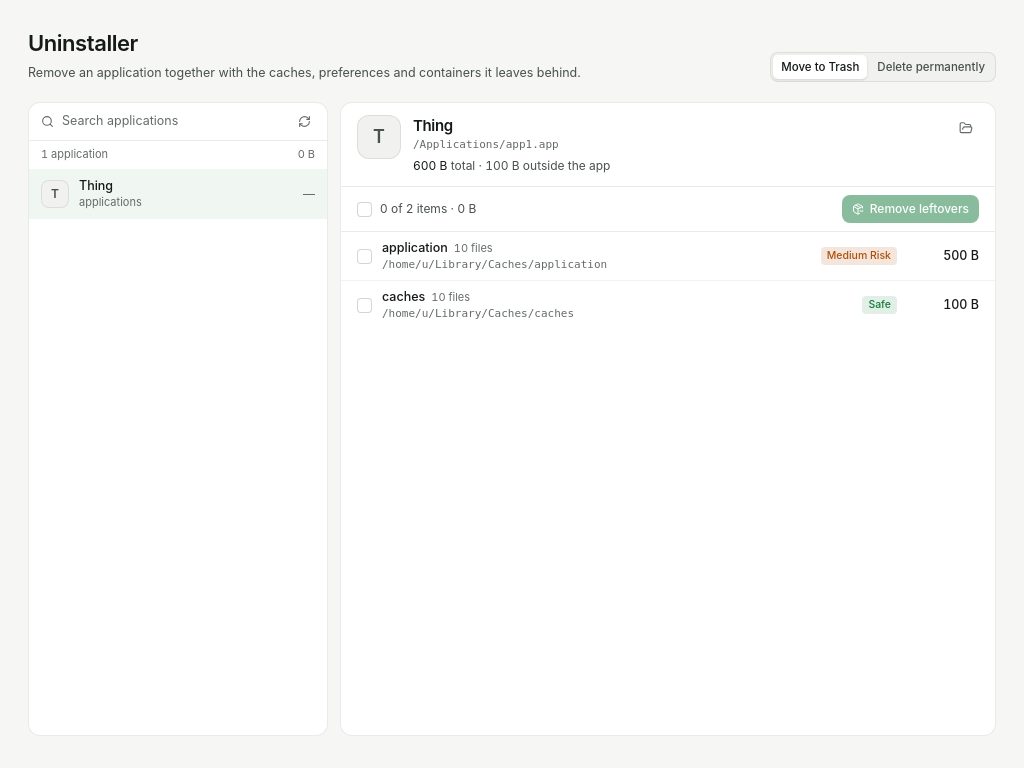
Test: UninstallerView › says whether it is uninstalling or only clearing up after
This screenshot has width=1024, height=768.
Click the checkbox named "caches": (364, 305) [357,298,372,313]
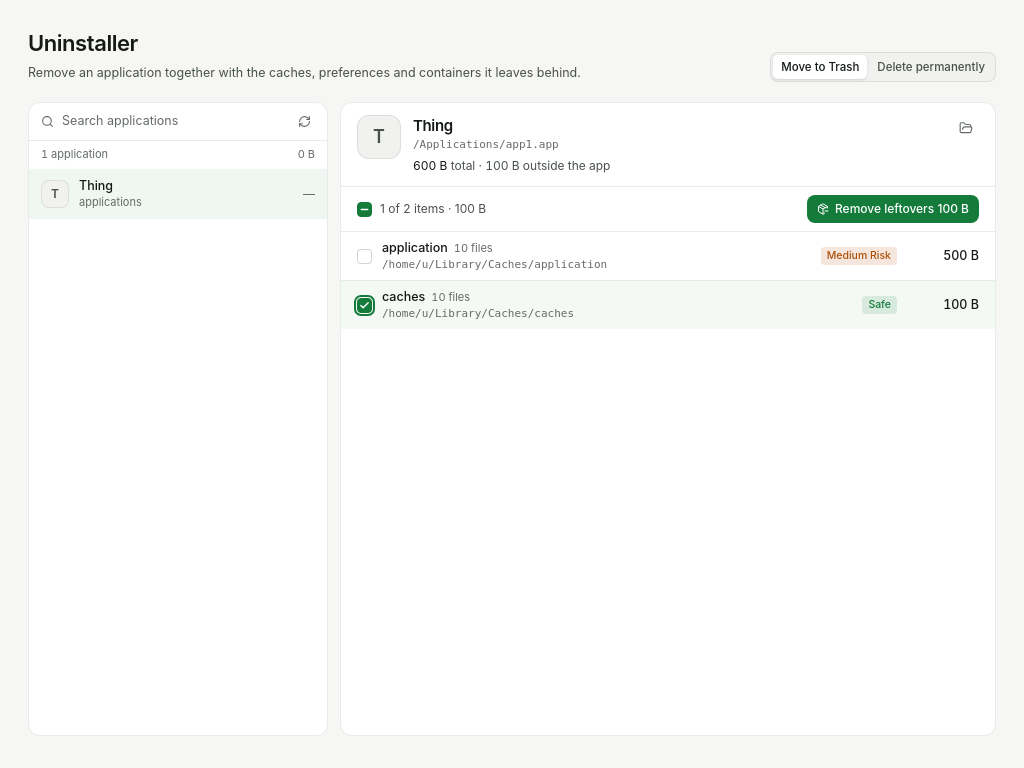
expect the button "Remove leftovers 100 B" is shown: met, box [807,195,979,223]
Click the checkbox named "application": (364, 256) [357,249,372,264]
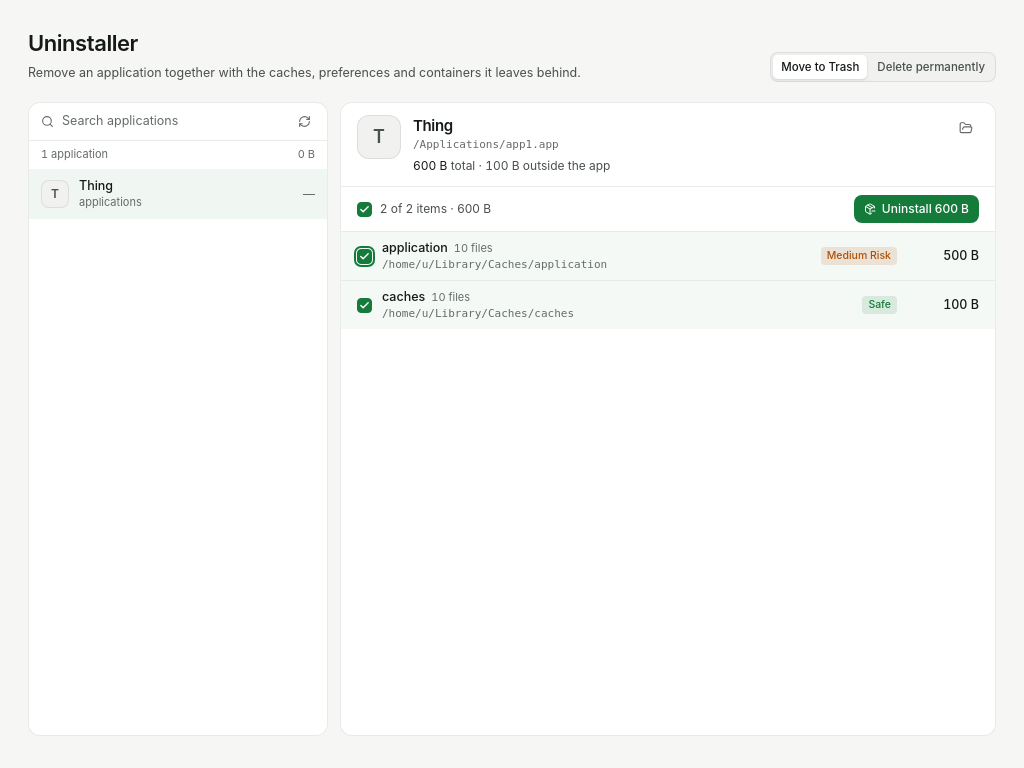
expect the button "Uninstall 600 B" is shown: met, box [854,195,979,223]
